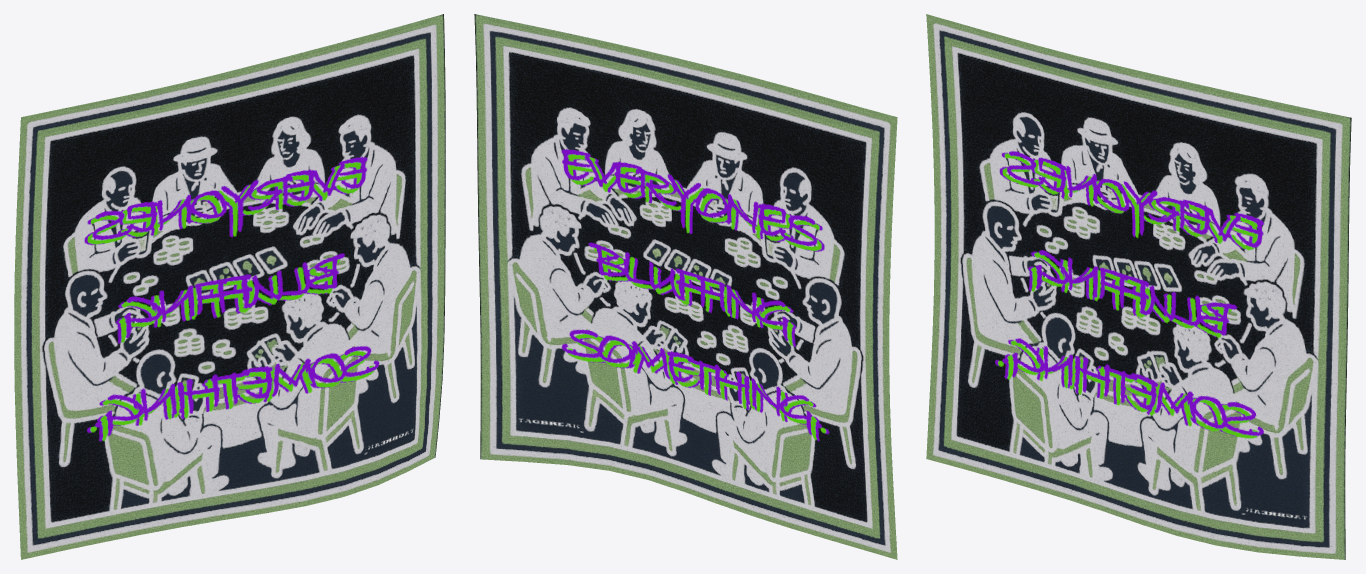
The model's file is scarf2.glb.
3 views of the same model, side by side, from view 1: azimuth 30°, elevation 25°; view 2: azimuth 150°, elevation 25°; view 3: azimuth 330°, elevation 25° (orthographic).
Parts seen in each view (by area): view 1: Plane; view 2: Plane; view 3: Plane.
Part boxes in pixels (x1,y1,x2,y2): Plane: (14, 14, 445, 559); Plane: (474, 14, 897, 559); Plane: (926, 14, 1351, 559).
Size of the model in its own units: 2 by 2 by 0.2072.
1 material, 1 textured.
